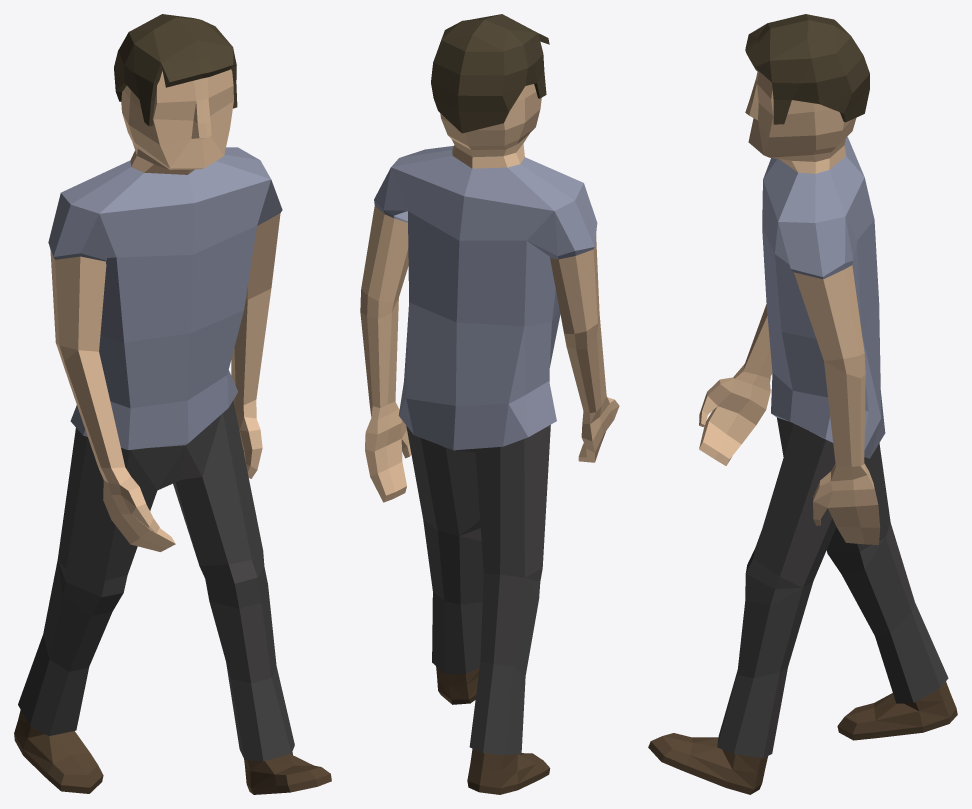
The model's file is Male_Walking.glb.
The picture shows the model from 3 angles, left to right: view 1: azimuth 30°, elevation 25°; view 2: azimuth 150°, elevation 25°; view 3: azimuth 270°, elevation 25°; orthographic projection. The views are drawn at different scales.
Visible parts, largest first — view 1: Male_Walking; view 2: Male_Walking; view 3: Male_Walking.
Part boxes in pixels (x1,y1,x2,y2): Male_Walking: (14, 14, 331, 794); Male_Walking: (360, 14, 619, 794); Male_Walking: (648, 14, 957, 794).
Bounding box in the file's own units: 0.5654 × 1.8 × 0.6778.
